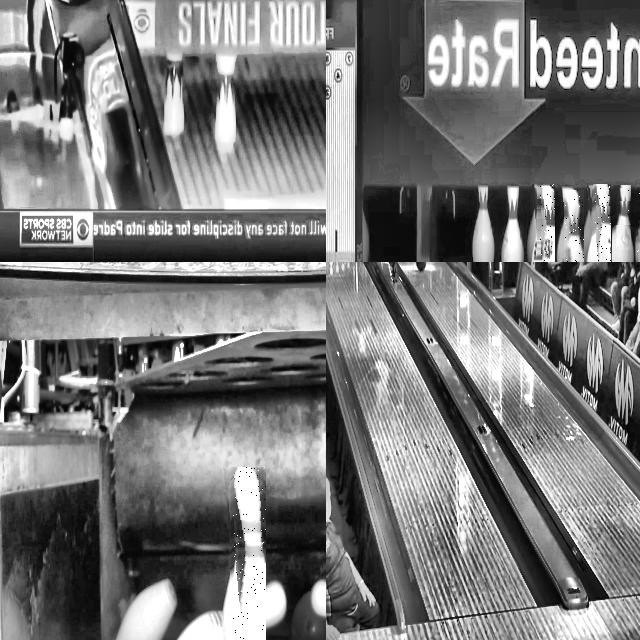bowling-pins: (233, 468, 265, 640), (472, 185, 494, 262), (502, 185, 523, 262), (564, 190, 584, 262), (595, 184, 610, 262), (615, 186, 630, 262), (540, 185, 554, 262), (581, 187, 594, 262), (556, 187, 568, 262), (527, 187, 538, 262)
